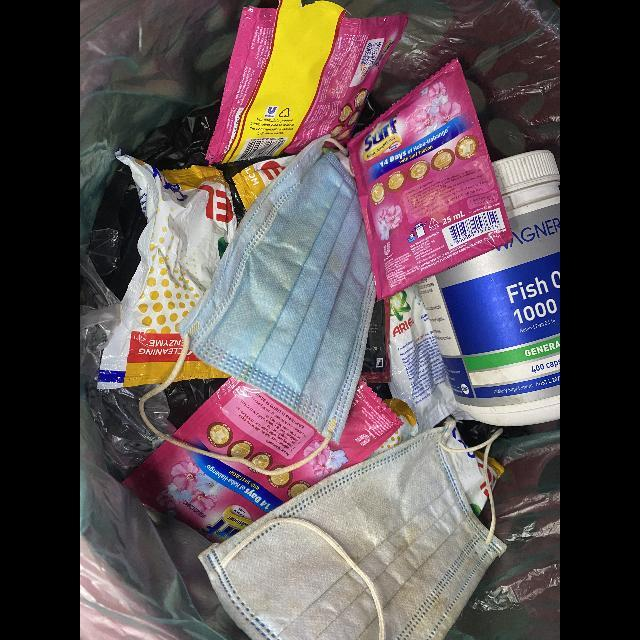plastic: (419, 150, 560, 427)
wrapper: (122, 377, 404, 548), (347, 58, 513, 302), (97, 150, 237, 391), (205, 0, 408, 165), (386, 283, 458, 433)
